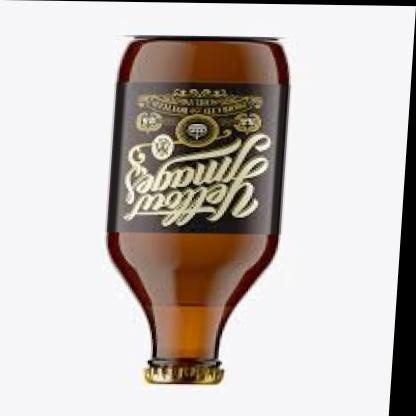trash: (108, 37, 287, 383)
